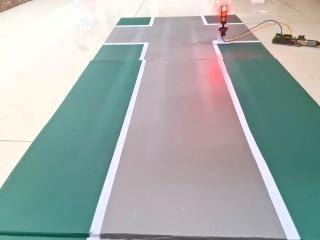red: (217, 3, 231, 29)
